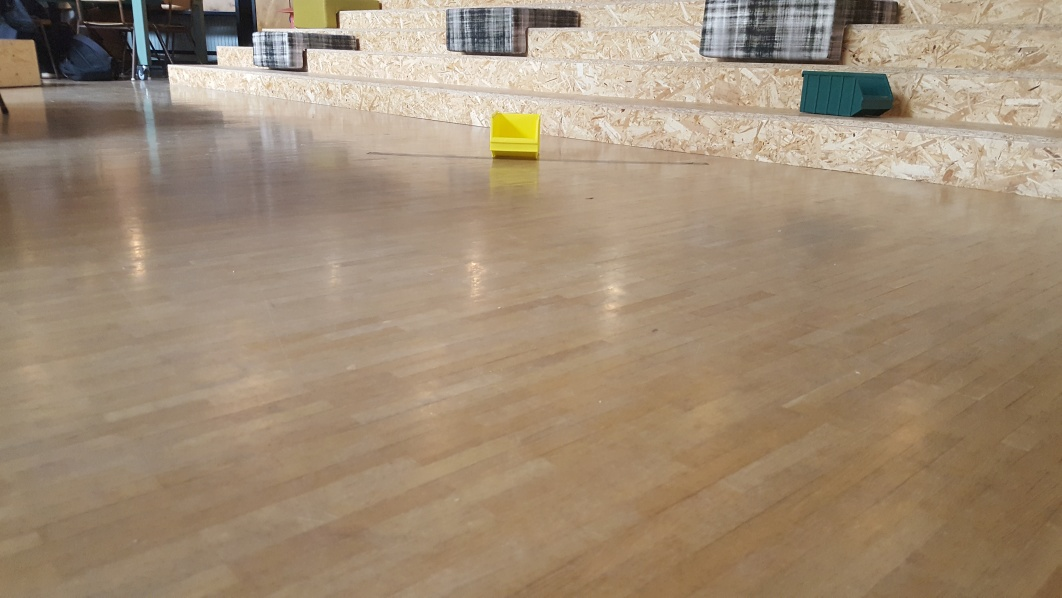tray: (797, 66, 895, 118), (485, 110, 544, 159)
